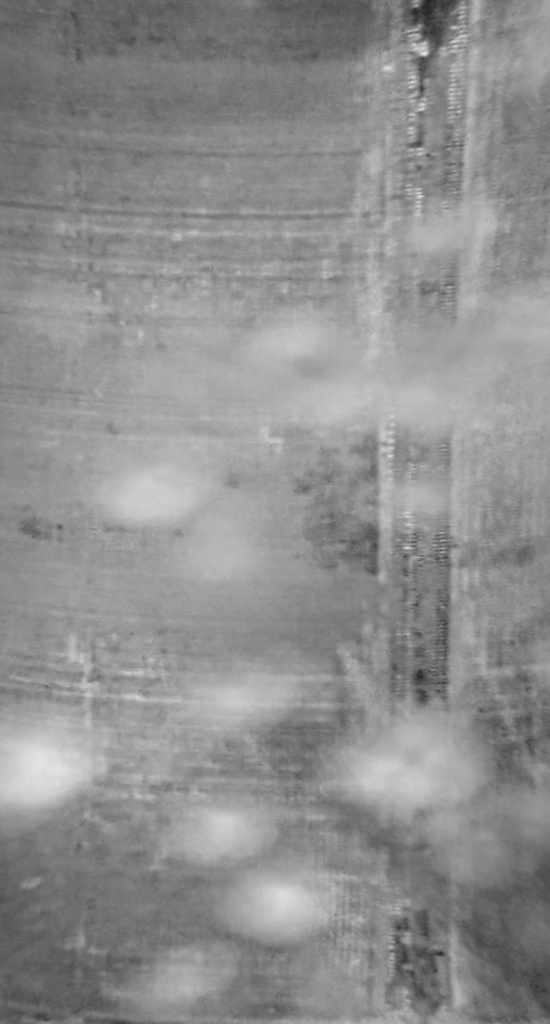splice: (378, 1, 475, 1021)
